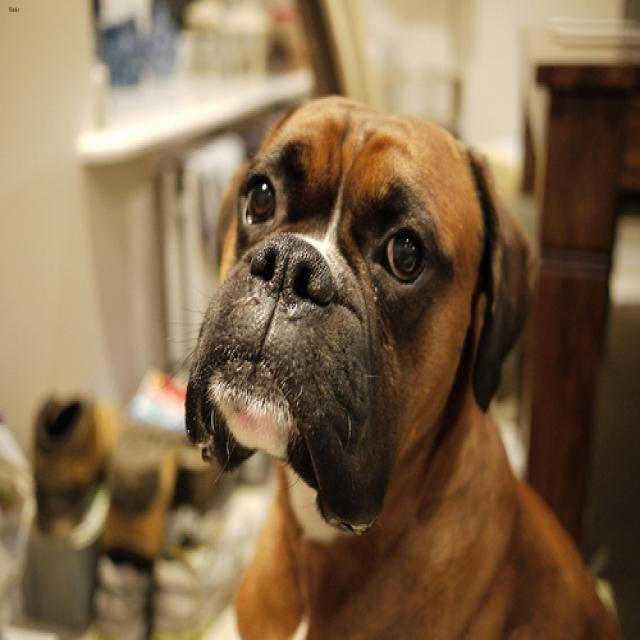dog-boxer: (137, 80, 632, 637)
